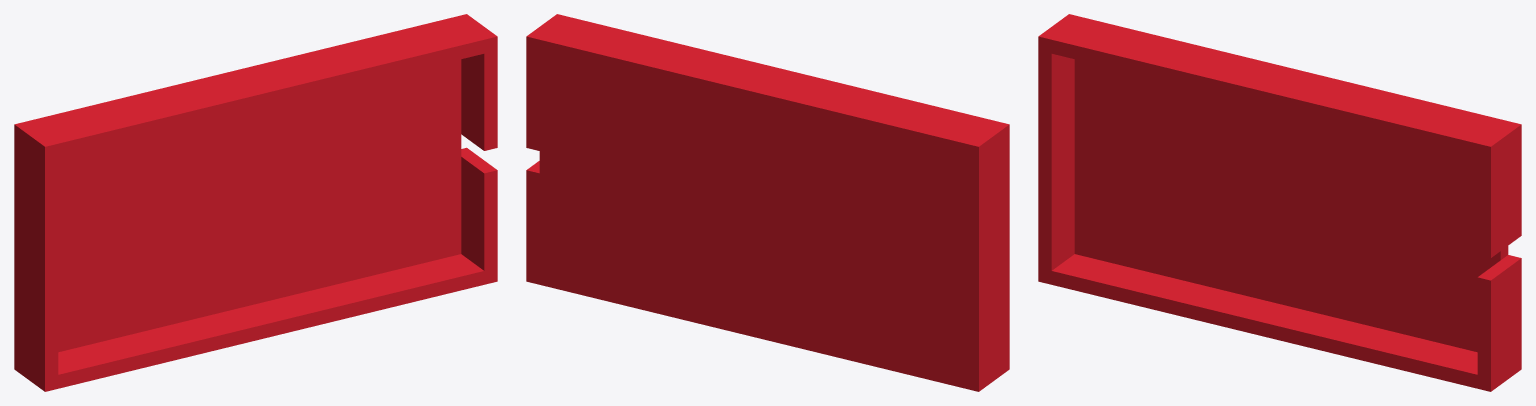
Rendered from tinker.obj.
3 views of the same model, side by side, from view 1: azimuth 30°, elevation 25°; view 2: azimuth 150°, elevation 25°; view 3: azimuth 330°, elevation 25° (orthographic).
Visible parts, largest first — view 1: obj_0; view 2: obj_0; view 3: obj_0.
Boxes of the visible parts, box(x1,y1,x2,y2) form: obj_0: box(14, 14, 497, 391); obj_0: box(526, 14, 1009, 391); obj_0: box(1038, 14, 1521, 391).
Size of the model in its own units: 170 by 88 by 20.
